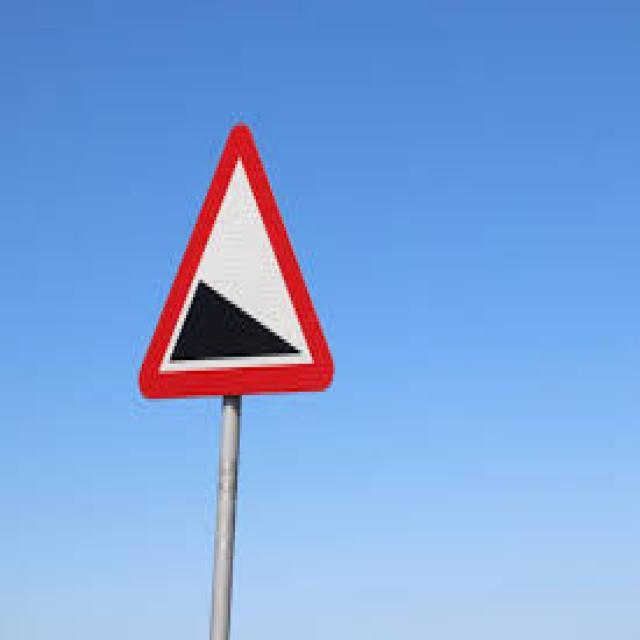steep descent: (134, 114, 343, 407)
